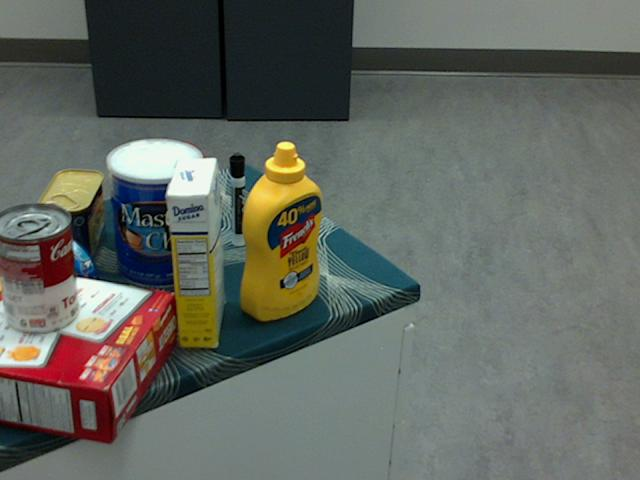cracker_box: (0, 262, 176, 443)
large_marker: (229, 152, 247, 245)
master_chef_can: (104, 138, 203, 289)
mug: (118, 141, 209, 222)
mustard_bottle: (239, 140, 323, 320)
potted_meat_can: (37, 167, 104, 271)
sugar_box: (164, 155, 225, 348)
tomato_soup_can: (0, 203, 78, 334)
tuna_fish_can: (11, 234, 97, 318)
